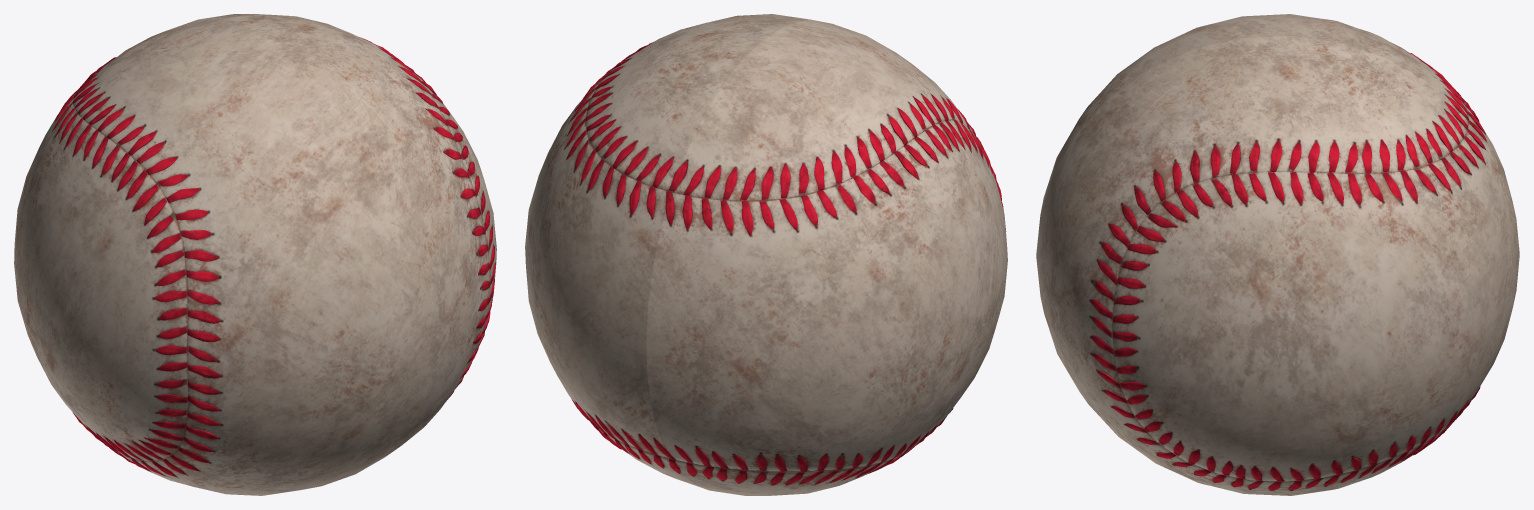
File: base_ball.glb
The picture shows the model from 3 angles, left to right: view 1: azimuth 30°, elevation 25°; view 2: azimuth 150°, elevation 25°; view 3: azimuth 270°, elevation 25°; orthographic projection.
Visible parts, largest first — view 1: Object_2, Object_7, Object_3, Object_4, Object_8, Object_5; view 2: Object_2, Object_3, Object_4, Object_6, Object_5, Object_7; view 3: Object_2, Object_5, Object_3, Object_4, Object_6.
Boxes of the visible parts, left/top/right/bottom form: Object_2: left=14, top=14, right=496, bottom=495; Object_7: left=87, top=157, right=221, bottom=476; Object_3: left=61, top=57, right=164, bottom=189; Object_4: left=53, top=57, right=495, bottom=399; Object_8: left=72, top=394, right=220, bottom=474; Object_5: left=359, top=37, right=489, bottom=235; Object_2: left=525, top=14, right=1007, bottom=495; Object_3: left=566, top=93, right=958, bottom=235; Object_4: left=569, top=43, right=946, bottom=235; Object_6: left=572, top=400, right=863, bottom=485; Object_5: left=572, top=42, right=727, bottom=480; Object_7: left=571, top=94, right=1006, bottom=477; Object_2: left=1036, top=14, right=1519, bottom=495; Object_5: left=1097, top=140, right=1480, bottom=466; Object_3: left=1362, top=66, right=1486, bottom=202; Object_4: left=1090, top=53, right=1461, bottom=475; Object_6: left=1212, top=394, right=1475, bottom=490.
Bounding box in the file's own units: 9.54 × 9.53 × 9.55.
Materials: 2 (2 with a texture image).
